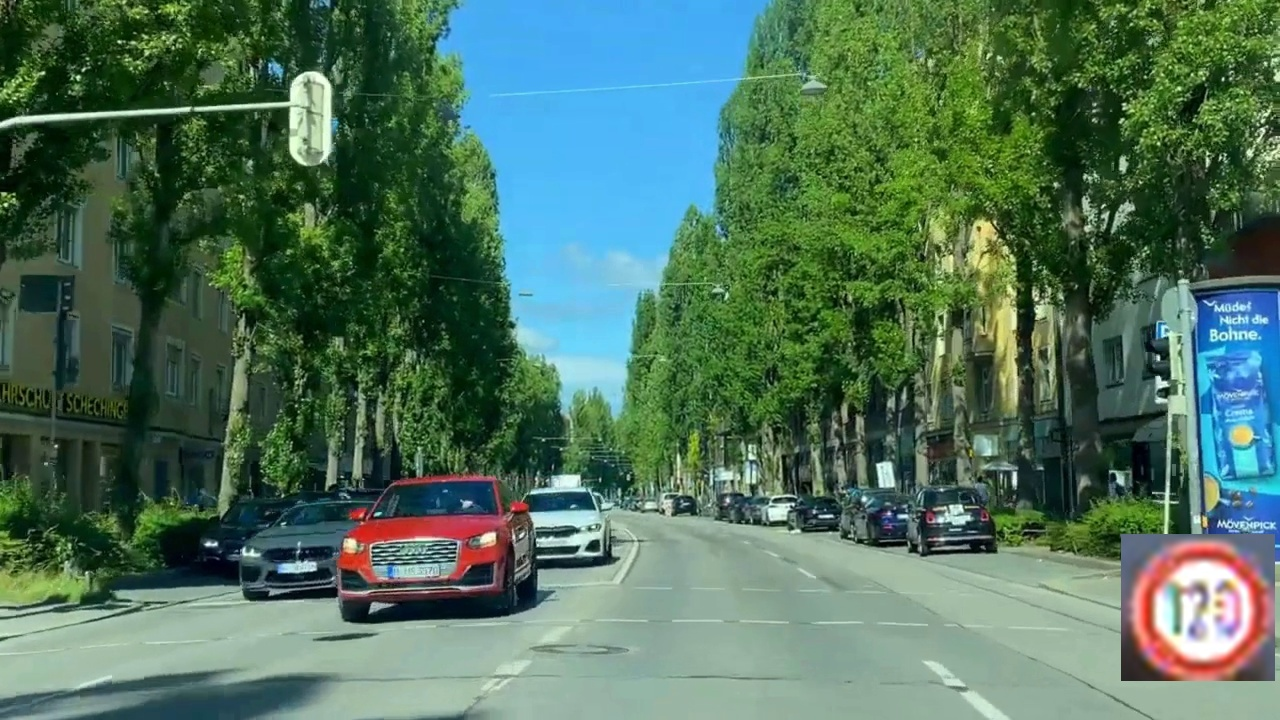Speed 120: (1121, 534, 1275, 681)
